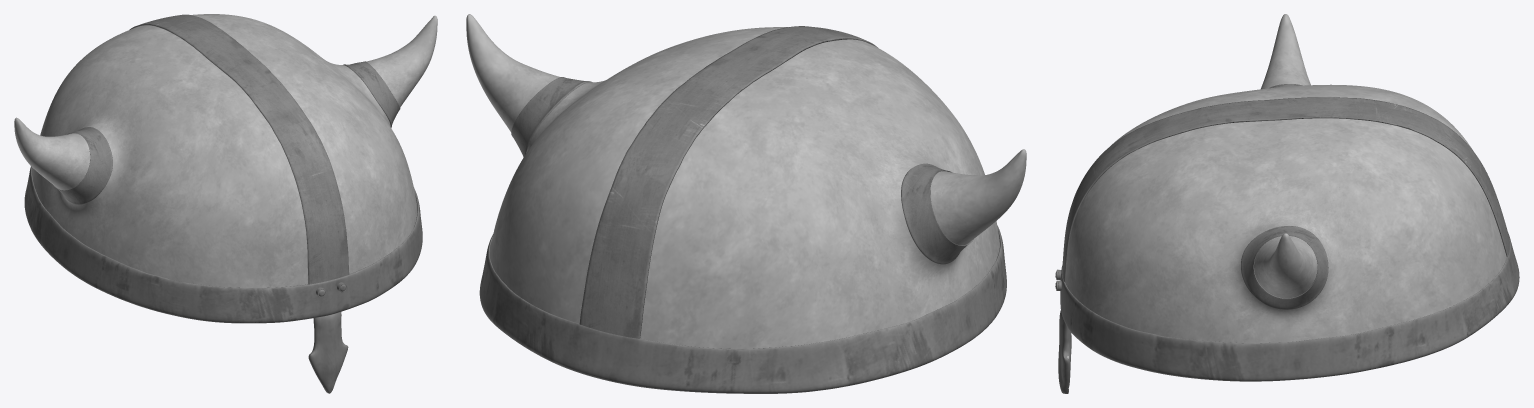
File: viking_helmet.glb
The picture shows the model from 3 angles, left to right: view 1: azimuth 30°, elevation 25°; view 2: azimuth 150°, elevation 25°; view 3: azimuth 270°, elevation 25°; orthographic projection. The views are drawn at different scales.
Parts seen in each view (by area): view 1: Object_3, Object_5, Object_2, Object_6, Object_4; view 2: Object_3, Object_5, Object_2, Object_4, Object_6; view 3: Object_3, Object_5, Object_4, Object_2, Object_6.
Part boxes in pixels (left/top/right/bottom): Object_3: left=14, top=14, right=437, bottom=355; Object_5: left=24, top=166, right=422, bottom=393; Object_2: left=129, top=14, right=349, bottom=284; Object_6: left=52, top=61, right=400, bottom=204; Object_4: left=191, top=14, right=437, bottom=118; Object_3: left=466, top=14, right=1026, bottom=348; Object_5: left=479, top=225, right=1006, bottom=393; Object_2: left=579, top=26, right=877, bottom=338; Object_4: left=466, top=14, right=689, bottom=319; Object_6: left=511, top=77, right=973, bottom=264; Object_3: left=1063, top=14, right=1506, bottom=393; Object_5: left=1055, top=232, right=1519, bottom=393; Object_4: left=1215, top=119, right=1505, bottom=335; Object_2: left=1062, top=97, right=1509, bottom=282; Object_6: left=1241, top=84, right=1328, bottom=309.
Bounding box in the file's own units: 2.19 × 1.33 × 1.94.
Materials: 4 (4 with a texture image).
